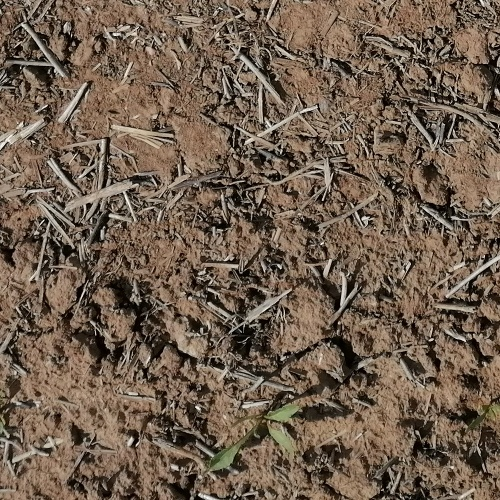beet: (204, 399, 301, 476)
